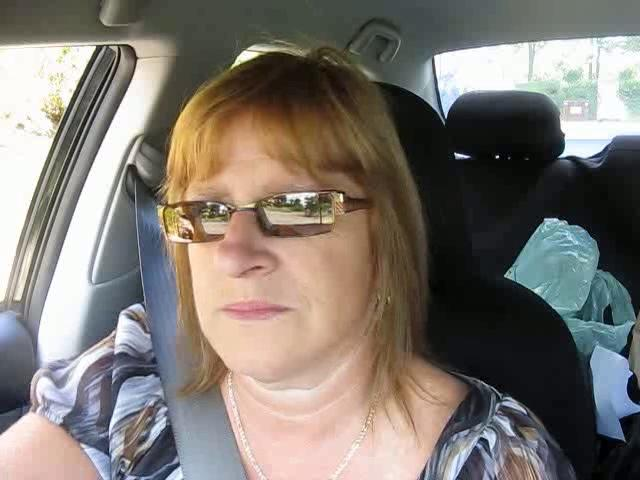no_yawn: (209, 289, 300, 329)
